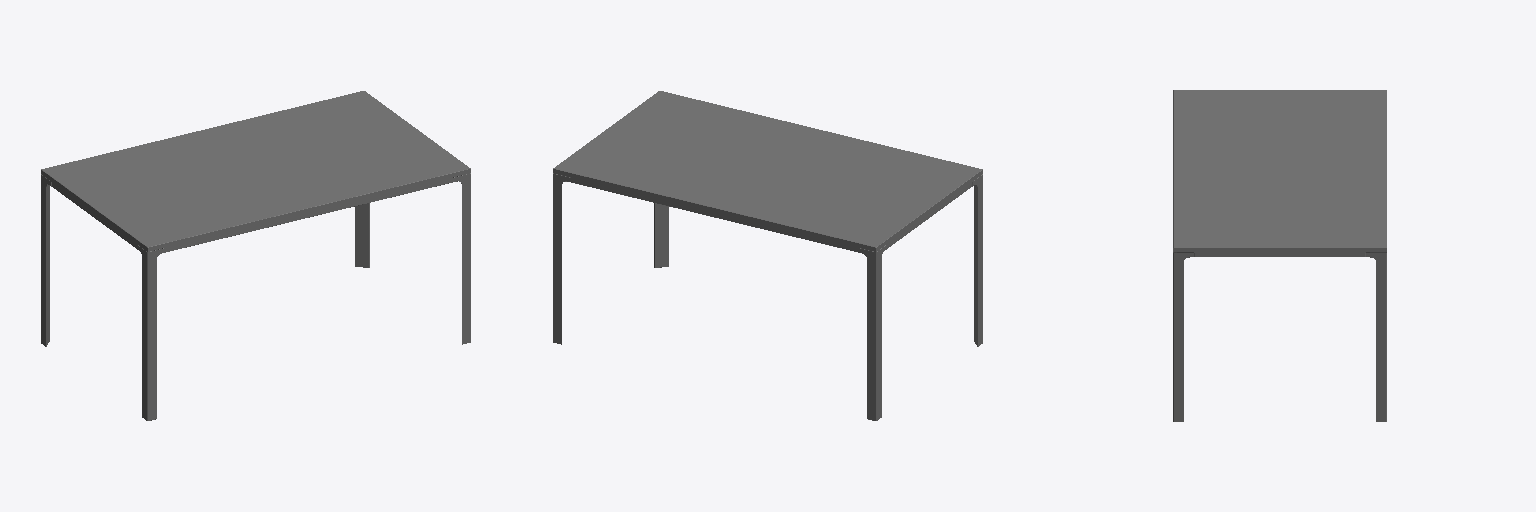
The model's file is desalto_bend_in_obj.obj.
The picture shows the model from 3 angles: view 1: azimuth 30°, elevation 25°; view 2: azimuth 150°, elevation 25°; view 3: azimuth 270°, elevation 25°; orthographic projection.
Parts seen in each view (by area): view 1: desalto_bend_in; view 2: desalto_bend_in; view 3: desalto_bend_in.
Boxes of the visible parts, box(x1,y1,x2,y2) form: desalto_bend_in: box(41, 91, 470, 420); desalto_bend_in: box(553, 91, 982, 420); desalto_bend_in: box(1173, 90, 1386, 421).
Bounding box in the file's own units: 15.24 × 7.84 × 8.71.